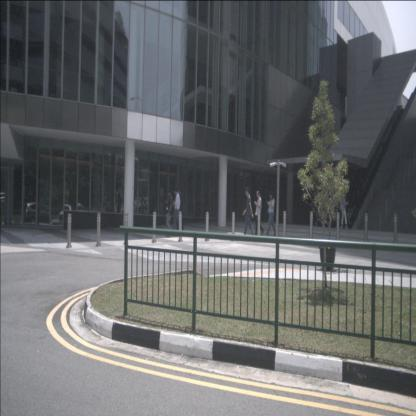human-pedestrian-adult: (243, 187, 254, 239), (254, 190, 264, 236), (266, 192, 276, 236), (164, 190, 173, 232), (172, 187, 180, 234), (340, 190, 349, 230), (178, 188, 184, 232), (117, 192, 122, 218)
vehicle-car: (25, 202, 52, 226)
